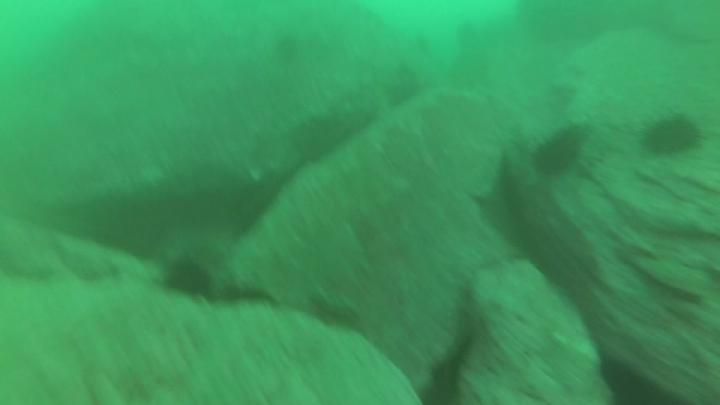echinus: (529, 126, 585, 180), (158, 252, 213, 304), (643, 114, 704, 159), (210, 281, 281, 307), (271, 30, 300, 66)
